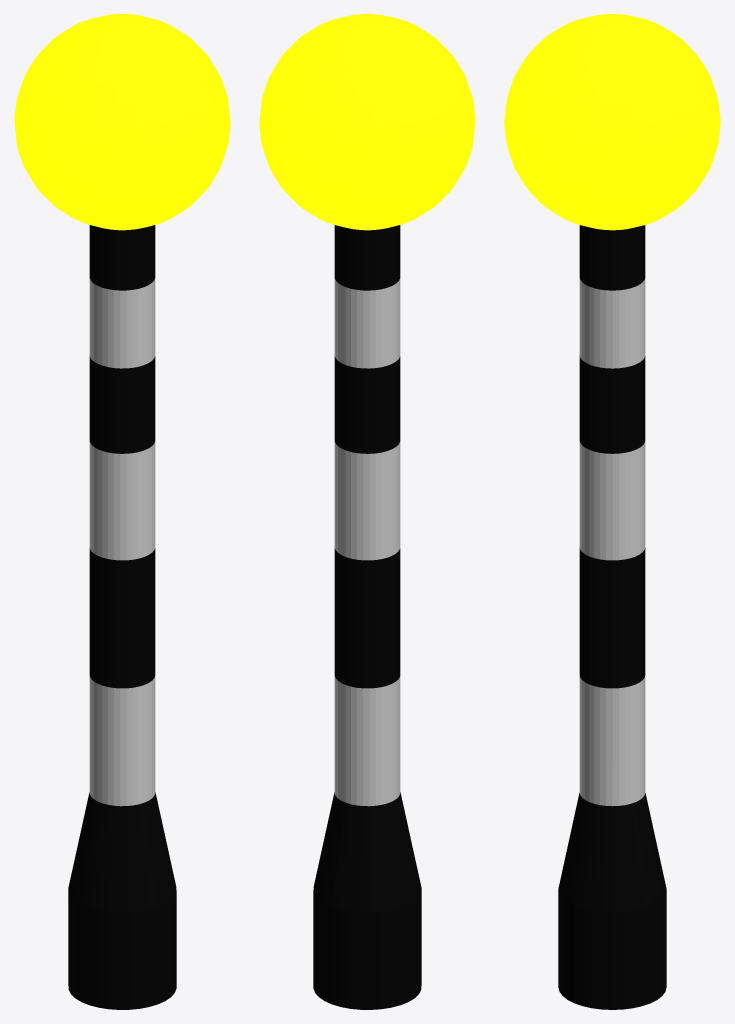
The model's file is uk_zebra_crossing.fbx.
The picture shows the model from 3 angles, left to right: view 1: azimuth 30°, elevation 25°; view 2: azimuth 150°, elevation 25°; view 3: azimuth 270°, elevation 25°; orthographic projection.
Parts seen in each view (by area): view 1: Cylinder, Sphere; view 2: Cylinder, Sphere; view 3: Cylinder, Sphere.
Part boxes in pixels (x1,y1,x2,y2): Cylinder: (68,225,176,1009); Sphere: (14,14,230,230); Cylinder: (313,225,421,1009); Sphere: (259,14,475,230); Cylinder: (558,225,666,1009); Sphere: (504,14,720,230).
Size of the model in its own units: 8 by 39.26 by 8.
